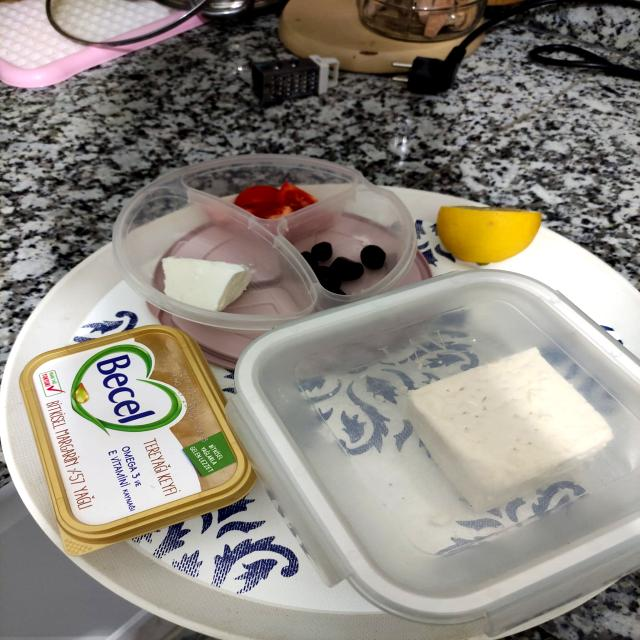cheese: (389, 328, 630, 512), (144, 251, 261, 313)
lemon: (424, 193, 556, 266)
margarine: (14, 324, 258, 555)
olive: (289, 230, 397, 297)
tomato: (218, 162, 321, 230)
